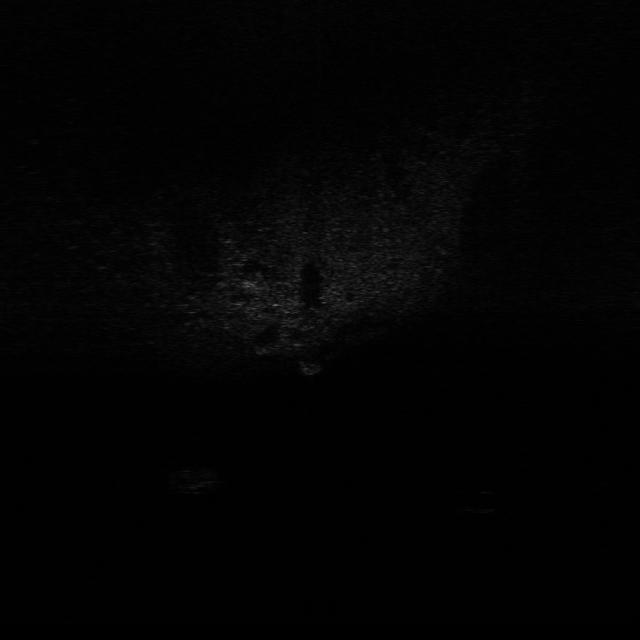ball: (471, 488, 507, 516)
circle cage: (166, 458, 232, 497)
cube: (296, 353, 328, 381)
